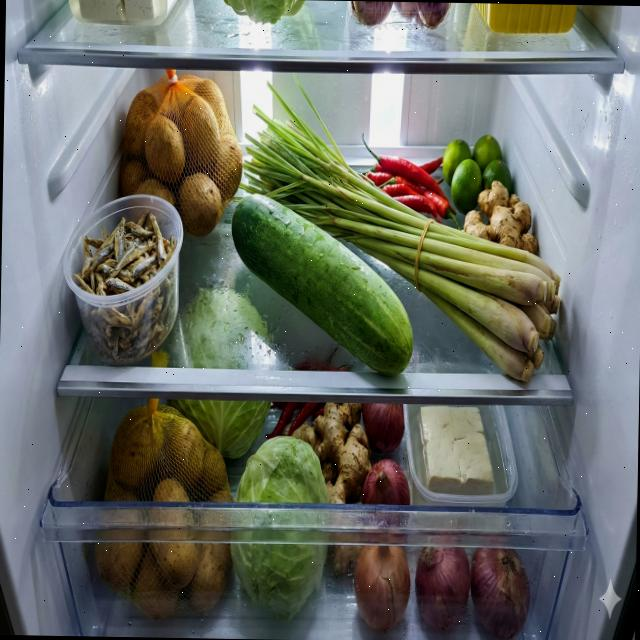anchovies: (70, 206, 180, 368)
cabbage: (231, 434, 332, 623), (166, 285, 273, 461)
chili: (359, 132, 463, 230)
cucumber: (228, 192, 416, 377)
ginger: (290, 399, 373, 507), (461, 180, 538, 254)
lemongrass: (234, 72, 564, 382)
lime: (440, 134, 512, 215)
onion: (414, 544, 531, 639), (353, 542, 411, 633), (360, 457, 410, 506), (360, 402, 404, 452)
potato: (93, 408, 235, 622), (119, 73, 244, 239)
tofu: (416, 404, 496, 496)
